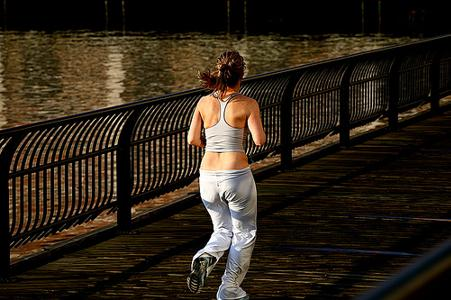person: (186, 50, 267, 300)
